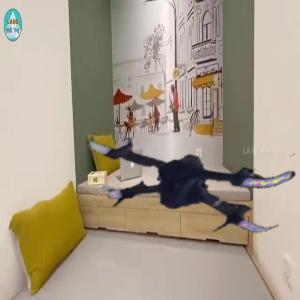drone: (93, 63, 297, 267)
